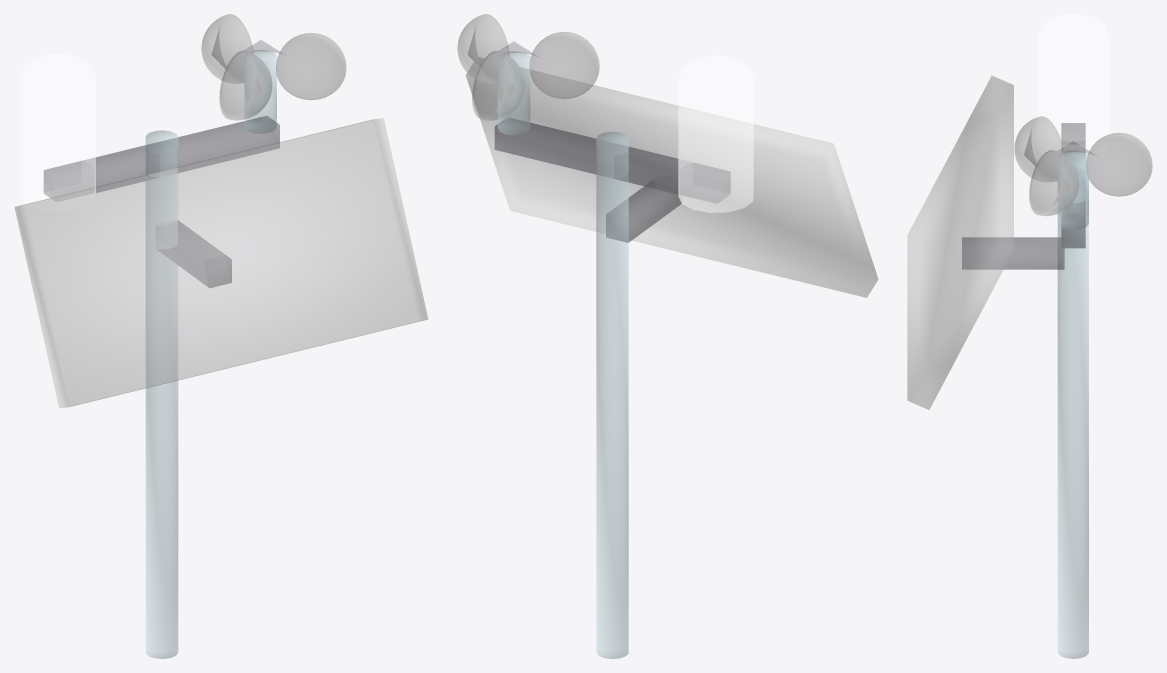
Rendered from 气象站.glb.
3 renders of one model, left to right at view 1: azimuth 30°, elevation 25°; view 2: azimuth 150°, elevation 25°; view 3: azimuth 270°, elevation 25°, orthographic. The views are drawn at different scales.
Parts seen in each view (by area): view 1: 气象站; view 2: 气象站; view 3: 气象站.
Boxes of the visible parts, x1=… form: 气象站: x1=15, y1=14, x2=427, y2=658; 气象站: x1=457, y1=14, x2=878, y2=658; 气象站: x1=907, y1=14, x2=1152, y2=658.
Size of the model in its own units: 80 by 132 by 50.18.
